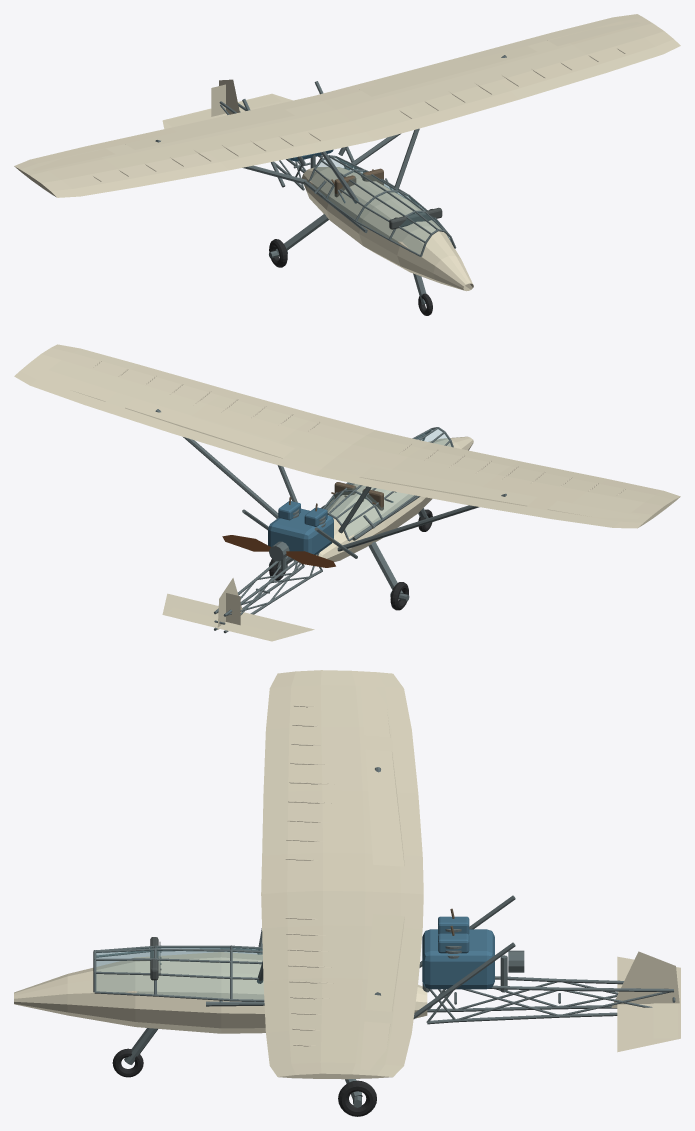
File: rans_s12xl_lod0.glb
3 renders of one model, top to bottom at view 1: azimuth 30°, elevation 25°; view 2: azimuth 150°, elevation 25°; view 3: azimuth 270°, elevation 25°, orthographic. The views are drawn at different scales.
Visible parts, largest first — view 1: Cabin pod and tapering tail boom, Axle, Closed two-seat clear canopy, flap_L, flap_R, Elevator, aileron_L, aileron_R, Instrument panel, Lap belt; view 2: Cabin pod and tapering tail boom, Axle, Blue head cylinder, flap_L, flap_R, Closed two-seat clear canopy, Elevator, aileron_L, aileron_R, Lap belt, Wood propeller blade.001, Wood propeller blade; view 3: Cabin pod and tapering tail boom, Axle, Closed two-seat clear canopy, Blue head cylinder, flap_R, flap_L, aileron_R, aileron_L, Wing rib tape, main_wheel.001, Elevator.
Boxes of the visible parts, <box> form: Cabin pod and tapering tail boom: <box>14,14,680,291</box>; Axle: <box>155,55,506,304</box>; Closed two-seat clear canopy: <box>311,157,450,254</box>; flap_L: <box>360,46,536,96</box>; flap_R: <box>125,108,294,149</box>; Elevator: <box>164,94,280,127</box>; aileron_L: <box>548,22,640,46</box>; aileron_R: <box>32,148,114,171</box>; Instrument panel: <box>389,207,442,229</box>; Lap belt: <box>331,168,383,197</box>; Cabin pod and tapering tail boom: <box>14,344,680,641</box>; Axle: <box>155,409,506,633</box>; Blue head cylinder: <box>268,501,333,554</box>; flap_L: <box>125,399,294,458</box>; flap_R: <box>359,467,536,506</box>; Closed two-seat clear canopy: <box>324,429,451,536</box>; Elevator: <box>164,607,280,640</box>; aileron_L: <box>32,368,114,401</box>; aileron_R: <box>547,500,640,518</box>; Lap belt: <box>289,482,383,511</box>; Wood propeller blade.001: <box>286,551,335,567</box>; Wood propeller blade: <box>222,535,270,551</box>; Cabin pod and tapering tail boom: <box>14,670,680,1079</box>; Axle: <box>93,767,675,1107</box>; Closed two-seat clear canopy: <box>96,947,263,999</box>; Blue head cylinder: <box>422,916,494,989</box>; flap_R: <box>365,749,404,866</box>; flap_L: <box>365,914,404,1011</box>; aileron_R: <box>360,677,390,737</box>; aileron_L: <box>360,1021,390,1070</box>; Wing rib tape: <box>285,705,334,1046</box>; main_wheel.001: <box>338,1080,376,1116</box>; Elevator: <box>653,968,677,1038</box>.
Size of the model in its own units: 9.45 by 2.24 by 6.6.
